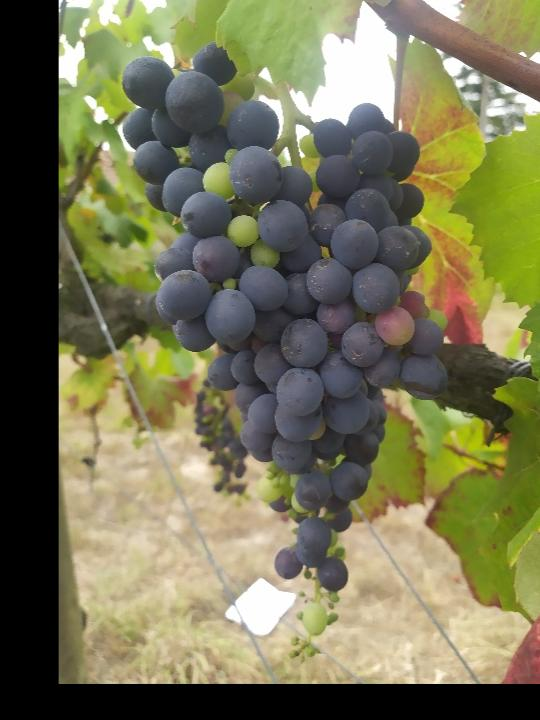grape: (121, 41, 448, 671)
